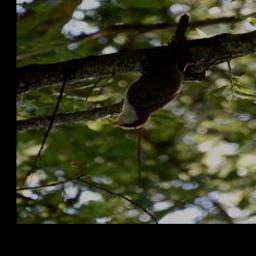Cuckoo: (101, 11, 195, 131)
